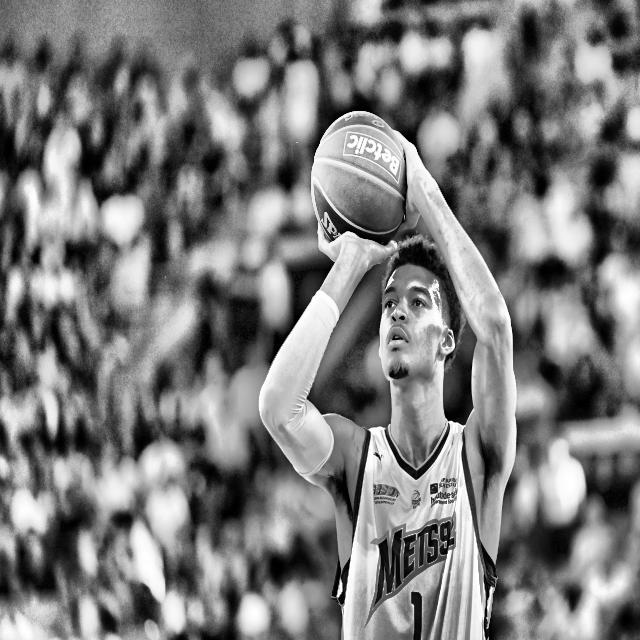Basketball: (311, 110, 407, 243)
